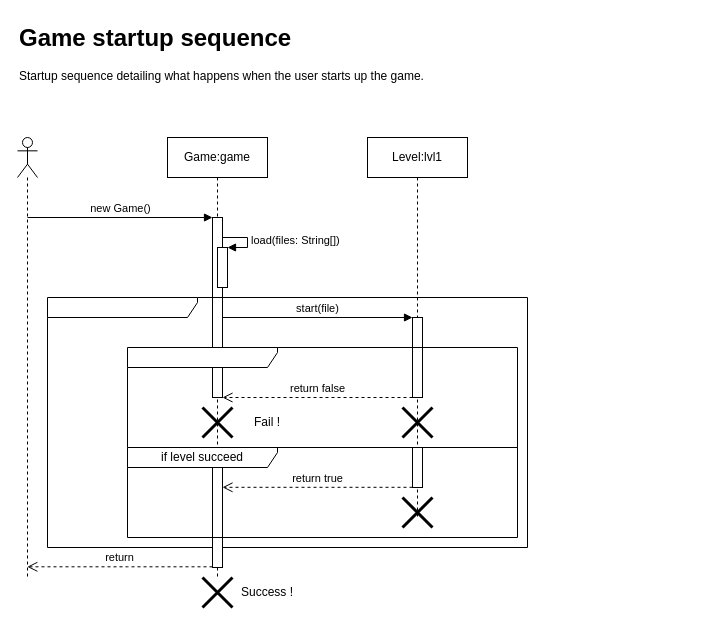
Some shapes in this 715 by 626 pixel diagram are drawn without their labels. Here are the shapes that lost their labels. From the top down, the box of each, then its label:
(126, 346, 518, 448): if level failed
(46, 296, 528, 548): for level file 1..n
